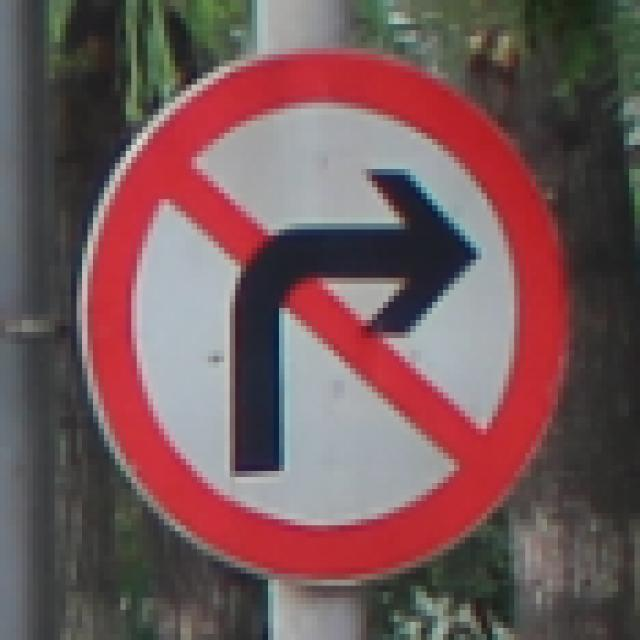Not that Direction: (72, 44, 572, 584)
